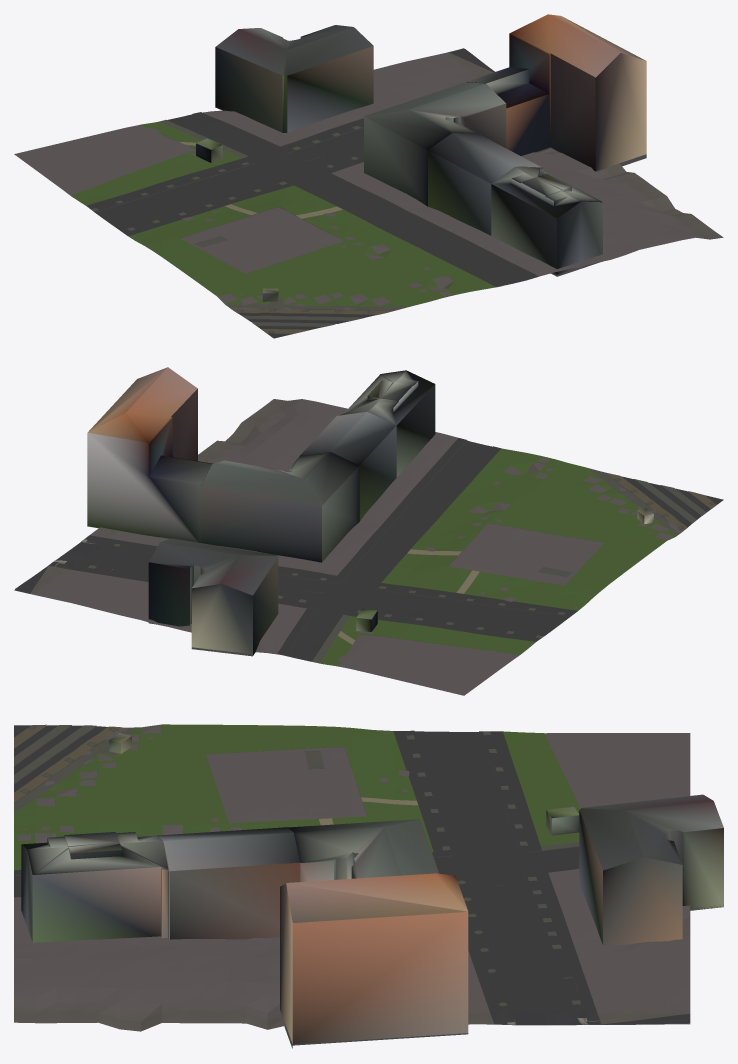
3 renders of one model, top to bottom at view 1: azimuth 30°, elevation 25°; view 2: azimuth 150°, elevation 25°; view 3: azimuth 270°, elevation 25°, orthographic. The views are drawn at different scales.
Visible parts, largest first — view 1: c_m15_m02; view 2: c_m15_m02; view 3: c_m15_m02.
Boxes of the visible parts, x1,y1,x2,y2 form: c_m15_m02: [14, 14, 723, 338]; c_m15_m02: [14, 367, 723, 695]; c_m15_m02: [14, 724, 723, 1048].
Bounding box in the file's own units: 136 × 31.2 × 134.
